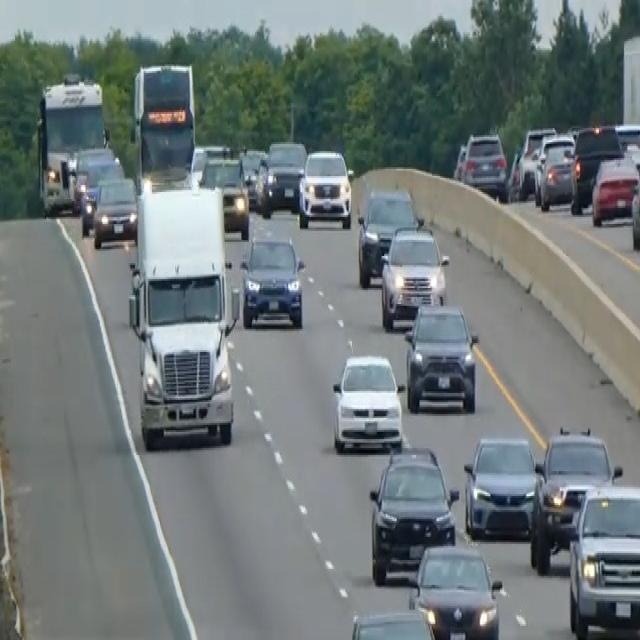bus: (34, 71, 109, 215), (130, 60, 197, 186)
car: (530, 423, 621, 573), (368, 444, 459, 585), (567, 482, 639, 638), (408, 540, 502, 638), (403, 300, 478, 414), (463, 434, 539, 540), (379, 222, 449, 329), (331, 350, 404, 452), (239, 231, 305, 329), (356, 185, 420, 286), (569, 123, 623, 213), (297, 148, 352, 230), (198, 153, 249, 240), (258, 137, 307, 217), (79, 156, 125, 234), (590, 153, 639, 226), (92, 174, 138, 247), (461, 130, 508, 199), (70, 142, 117, 210), (343, 606, 442, 638), (536, 132, 575, 210), (515, 125, 556, 199), (189, 140, 228, 185), (238, 144, 266, 206), (630, 164, 639, 250)
lorry: (127, 180, 239, 450)
